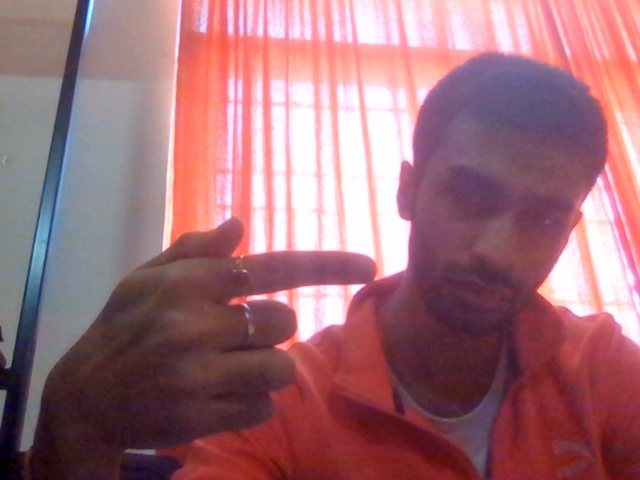G: (31, 209, 412, 463)
